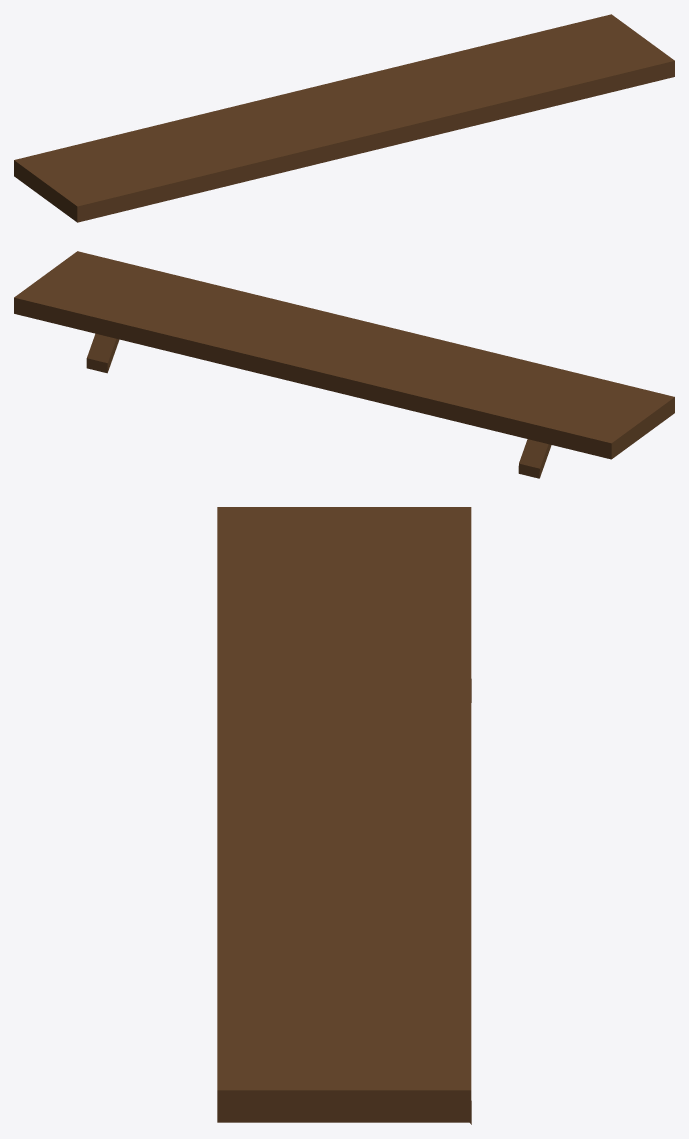
File: shelf.fbx
3 renders of one model, top to bottom at view 1: azimuth 30°, elevation 25°; view 2: azimuth 150°, elevation 25°; view 3: azimuth 270°, elevation 25°, orthographic. The views are drawn at different scales.
Visible parts, largest first — view 1: shelf; view 2: shelf; view 3: shelf.
Boxes of the visible parts, x1=… form: shelf: x1=14, y1=14, x2=674, y2=222; shelf: x1=14, y1=251, x2=674, y2=478; shelf: x1=217, y1=507, x2=471, y2=1124.
Size of the model in its own units: 318 by 26.89 by 58.59.
